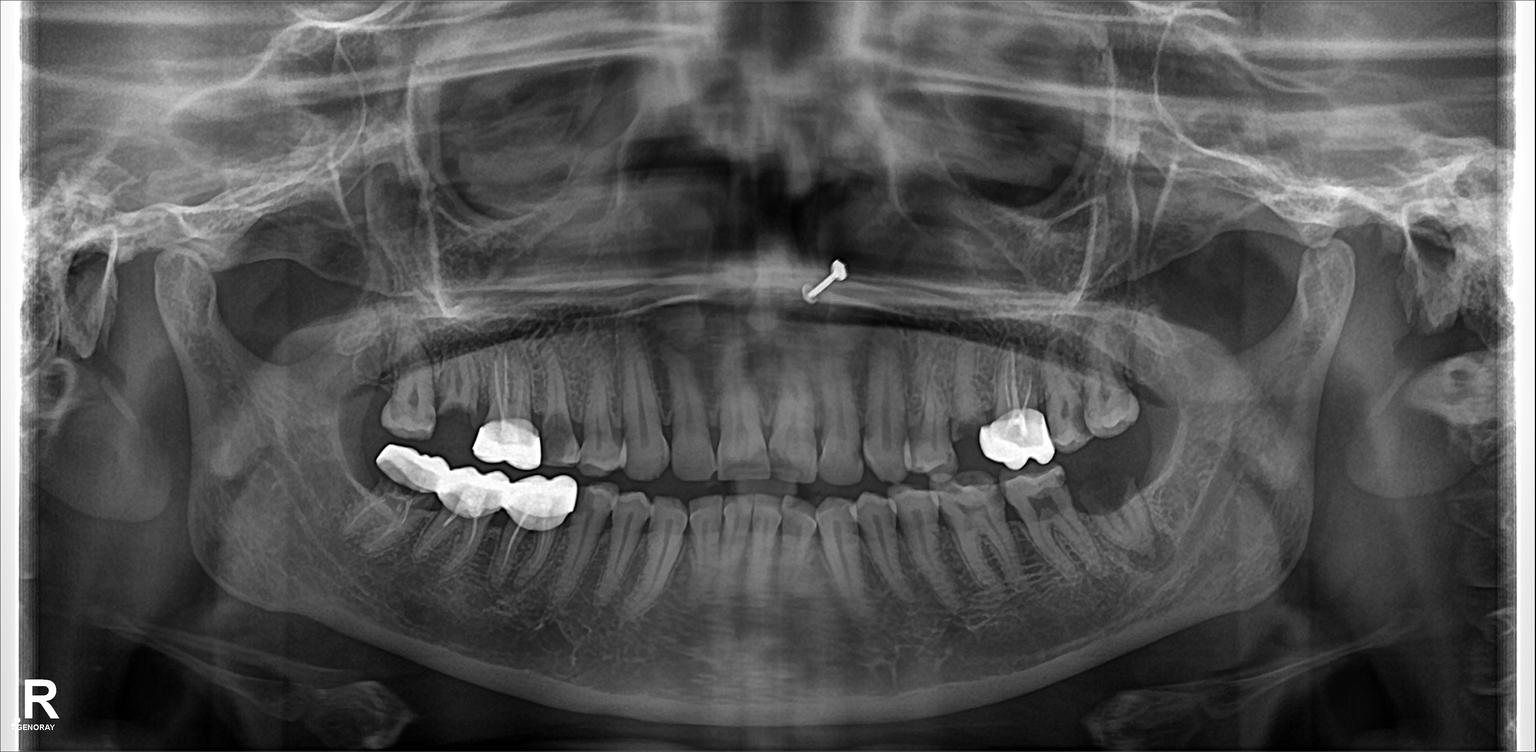Dental Caries: (1071, 404, 1089, 428)
Endodontically Treated Tooth: (380, 445, 434, 553), (477, 367, 538, 462), (507, 478, 563, 581), (991, 363, 1046, 465), (436, 471, 484, 570)
Missing Tooth: (335, 339, 378, 426)
Retained Root: (1073, 454, 1155, 550), (950, 348, 985, 460), (432, 352, 469, 448)
